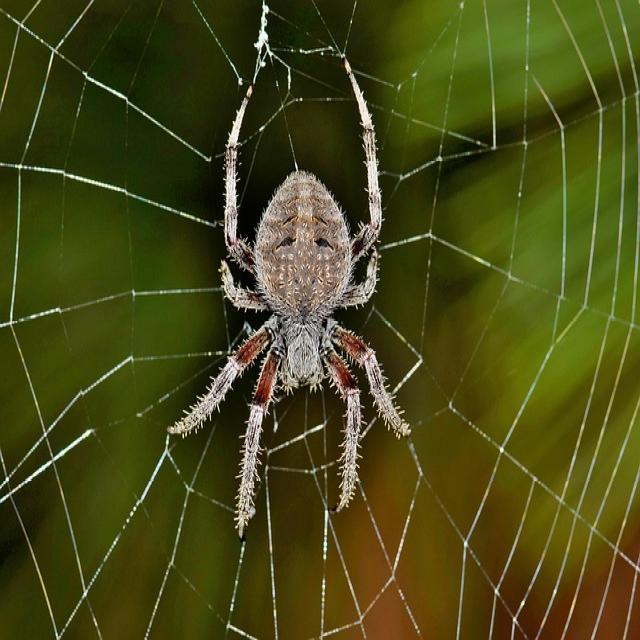spyder: (170, 61, 409, 534)
